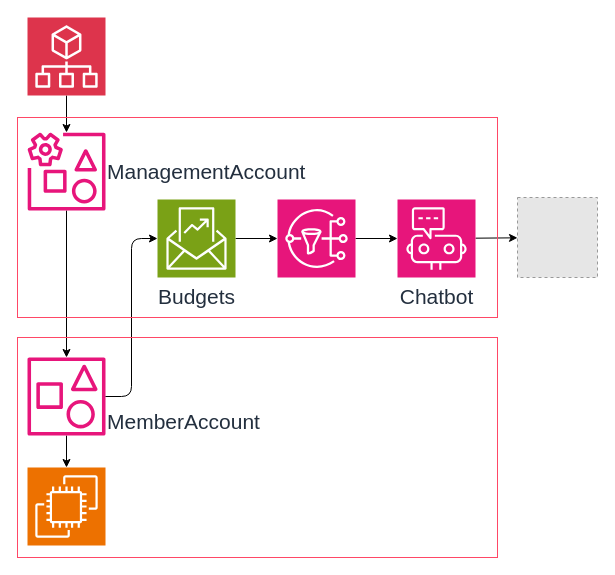
Some shapes in this 615 by 575 pixel diagram are drawn without their labels. Grey dashed boxes stand in for pictures. Here are the shapes that lost their labels. From the top down, the centre of each, then its label:
the point at 66,56: Organizations
the point at 316,238: SNS Topic
